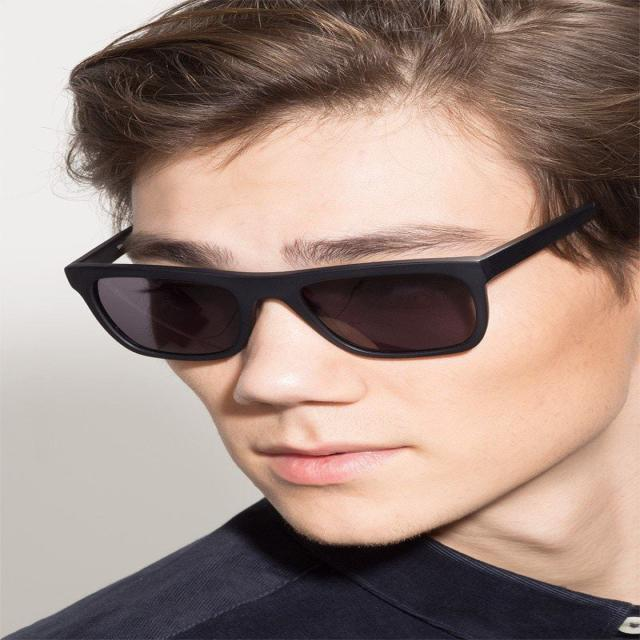2_gafas: (62, 248, 601, 362)
